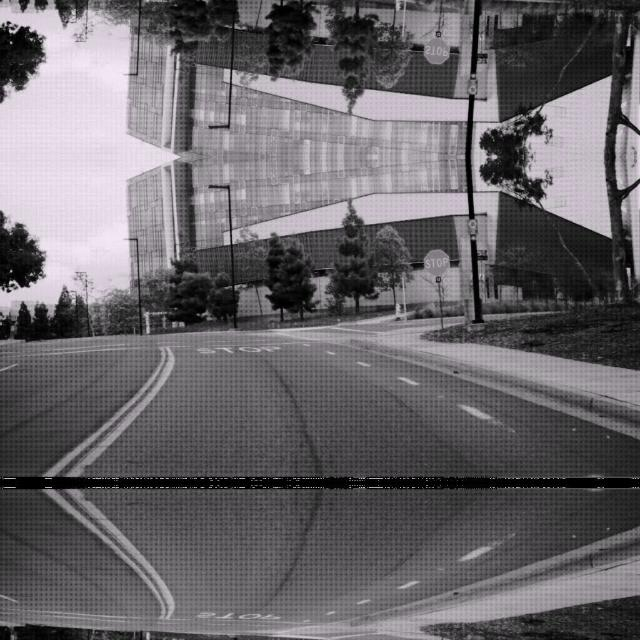stop: (423, 37, 449, 64), (423, 248, 449, 274)
